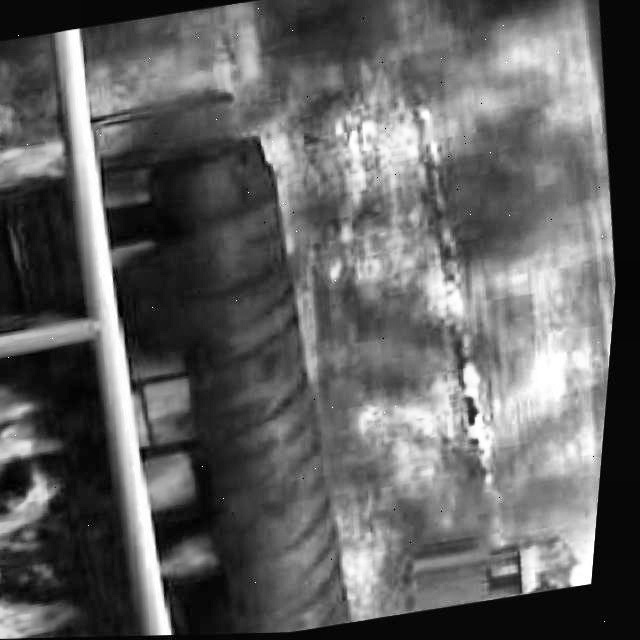Fire: (0, 372, 129, 640), (112, 339, 217, 558), (0, 52, 76, 207), (172, 521, 252, 636), (99, 159, 172, 278)
Smoke: (134, 0, 640, 633)
